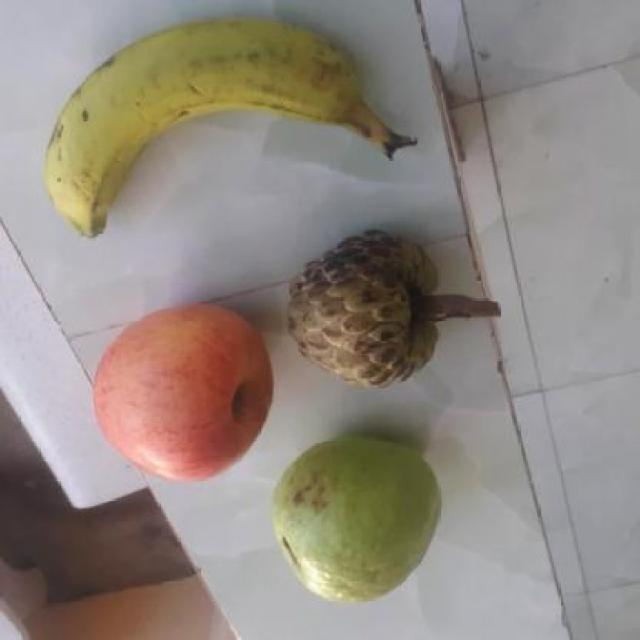apple: (90, 308, 278, 480)
banana: (47, 22, 411, 238)
guava: (277, 439, 445, 598)
sugar apple: (290, 231, 450, 394)
